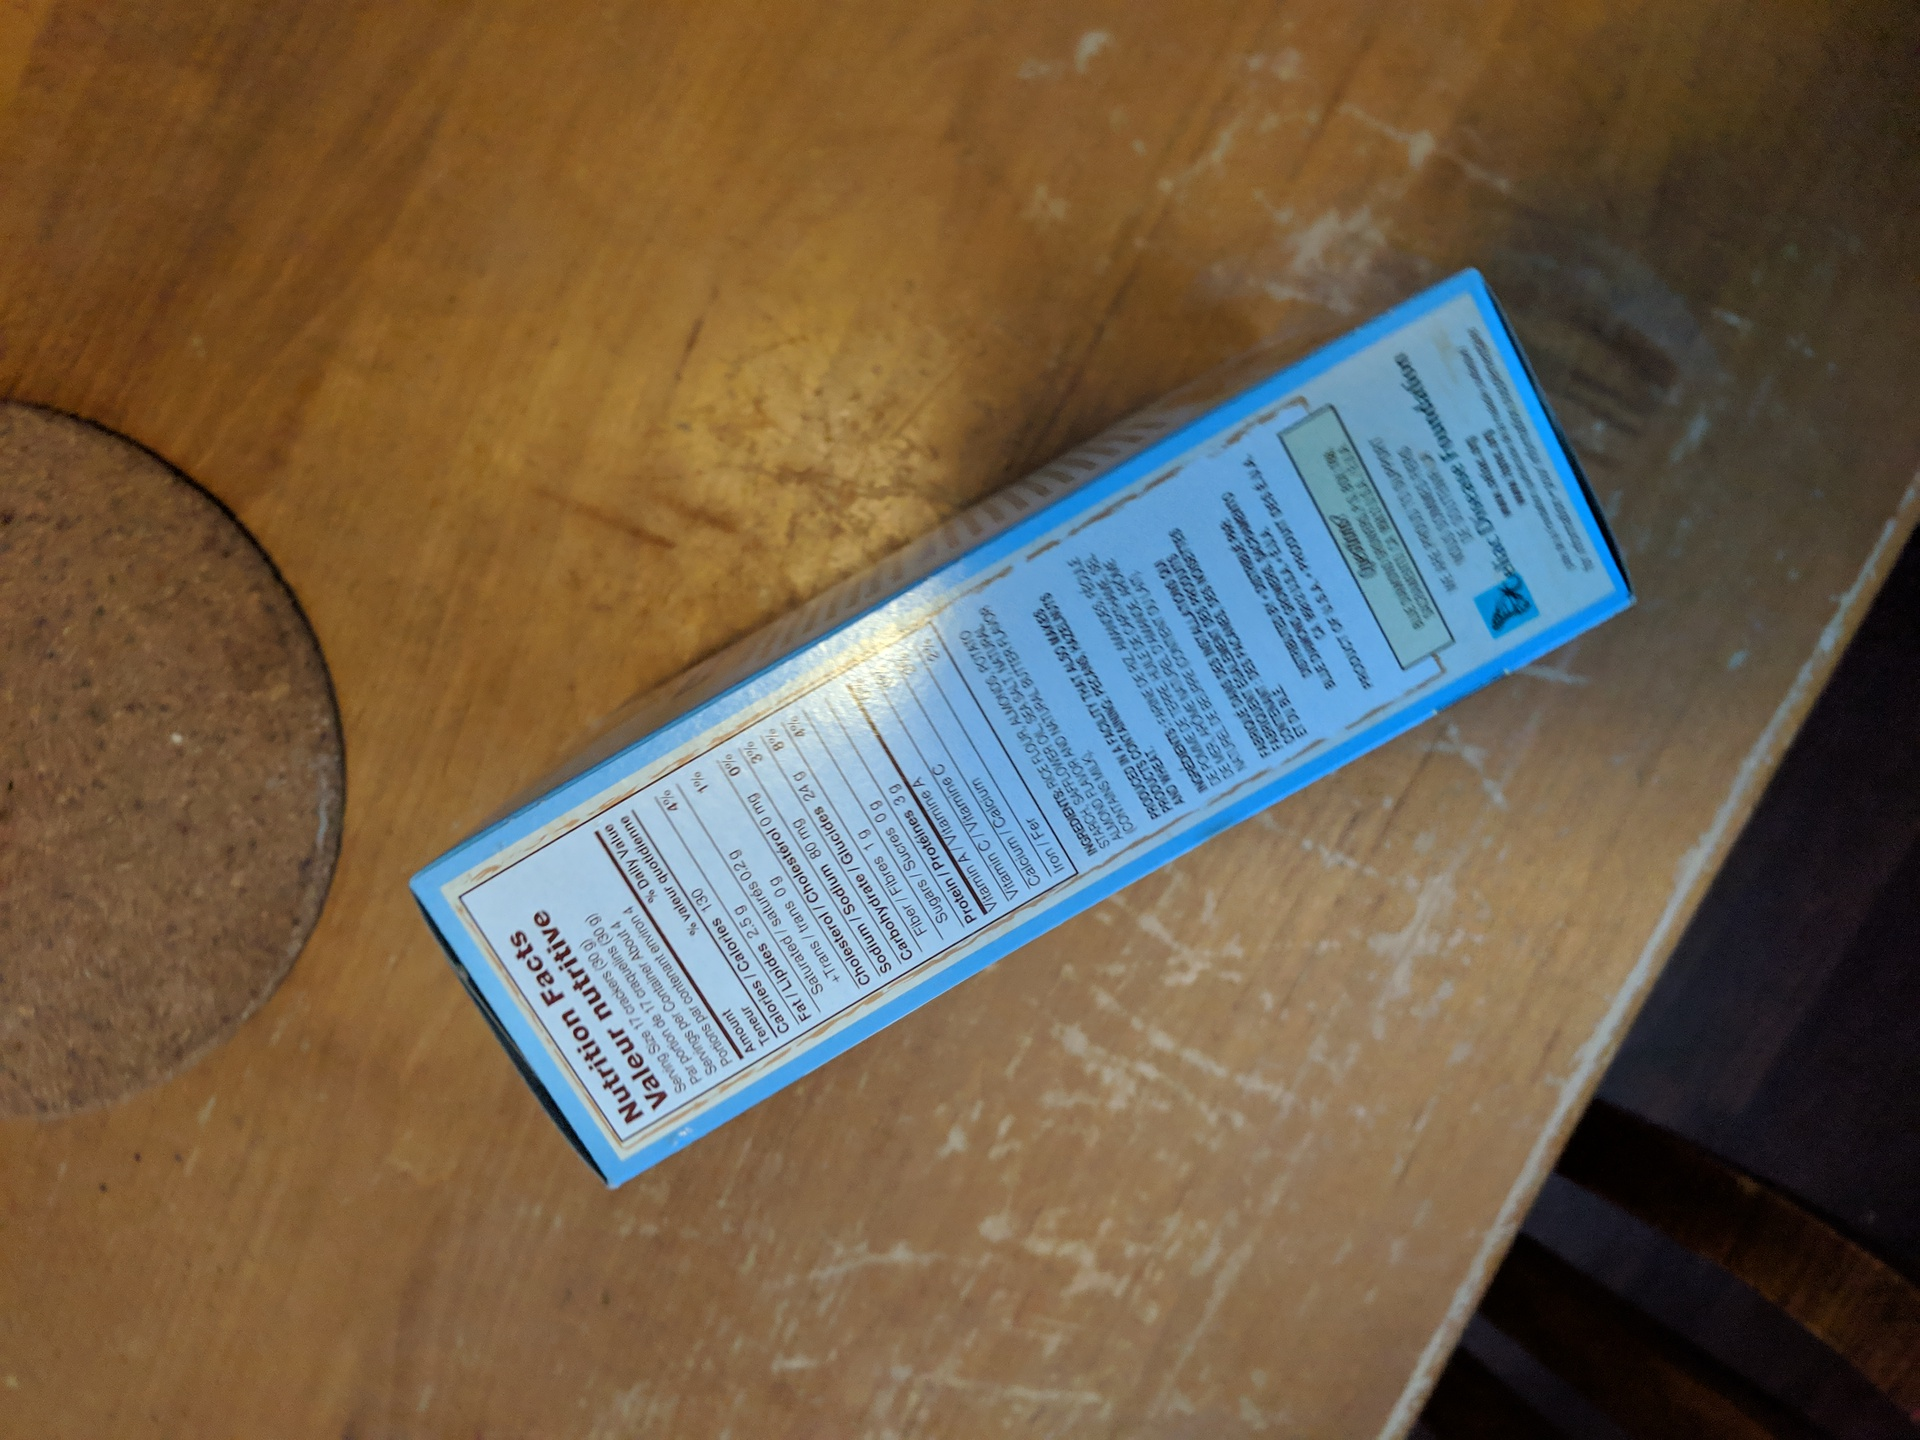blue_diamond_nut_thins_almond_seasalt: (493, 343, 1528, 1085)
